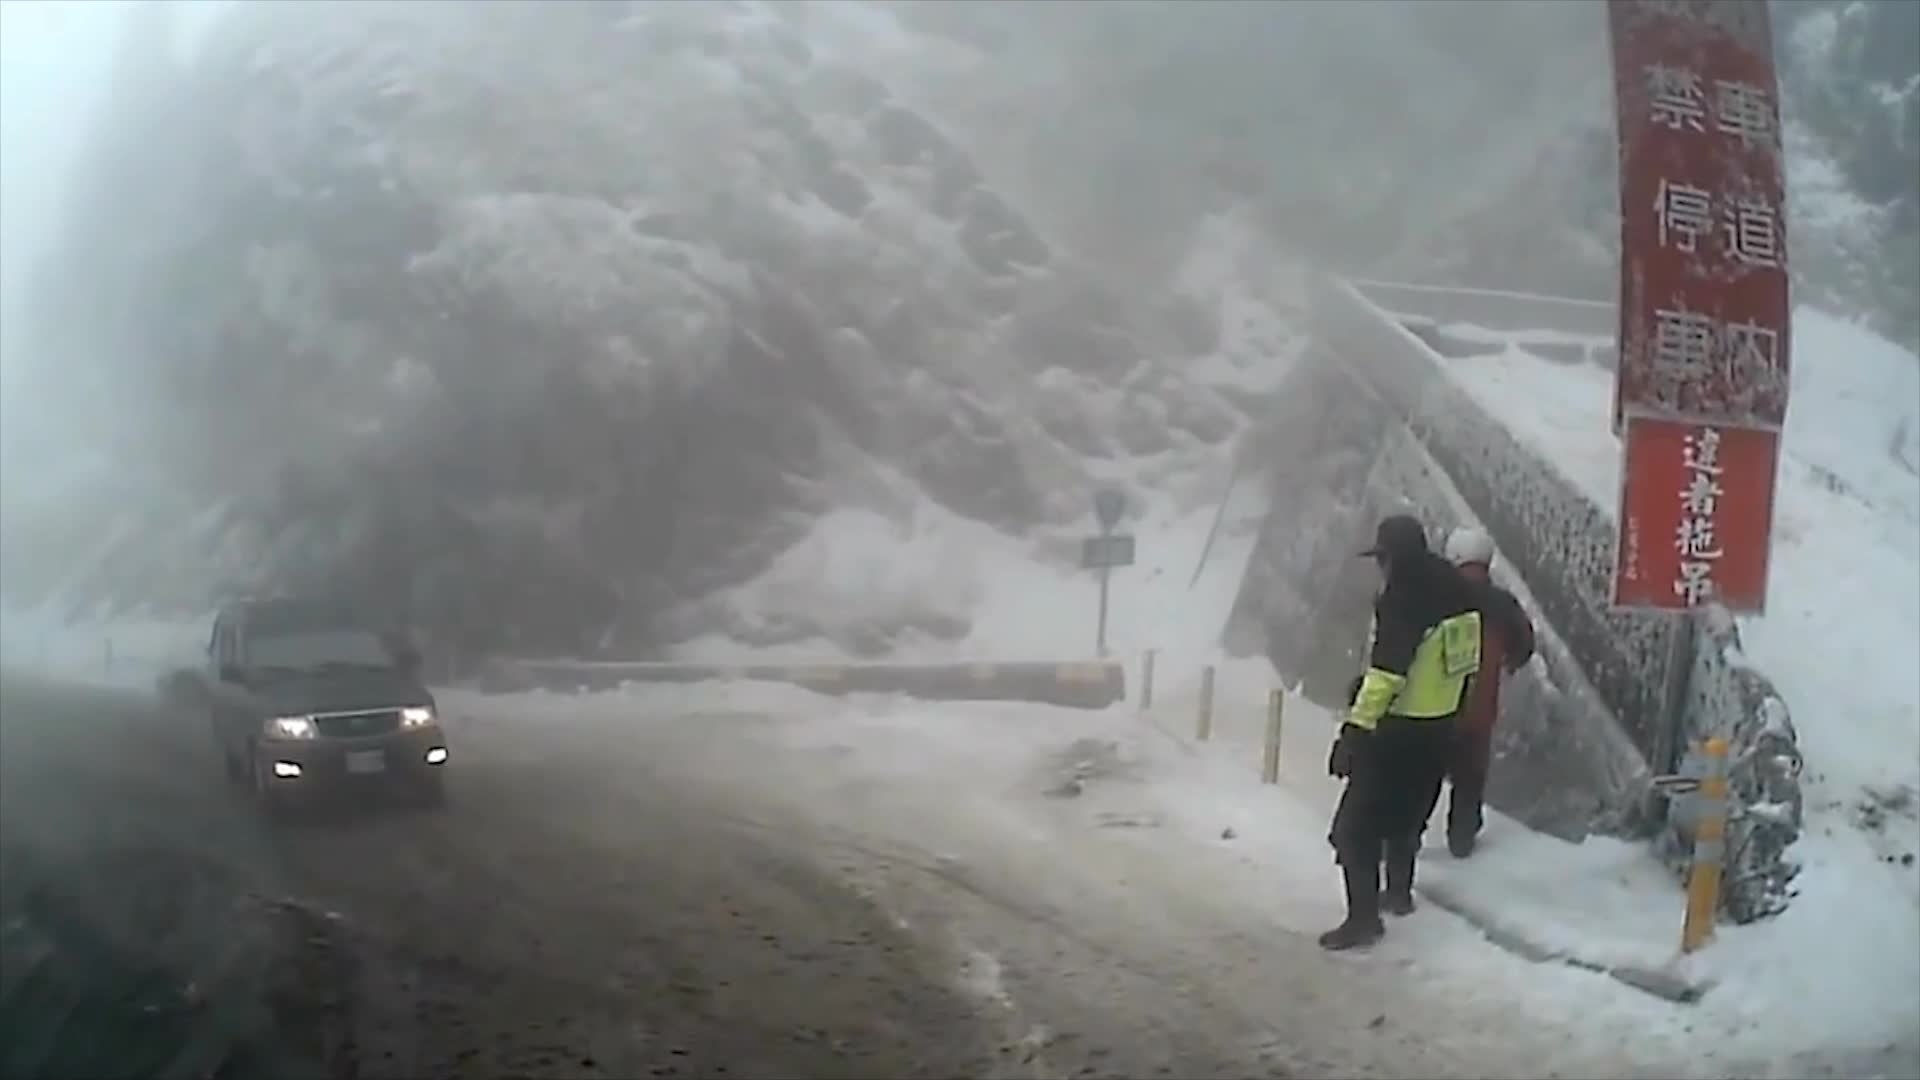pedestrian: (1318, 518, 1484, 953)
vehicle: (202, 591, 446, 817)
